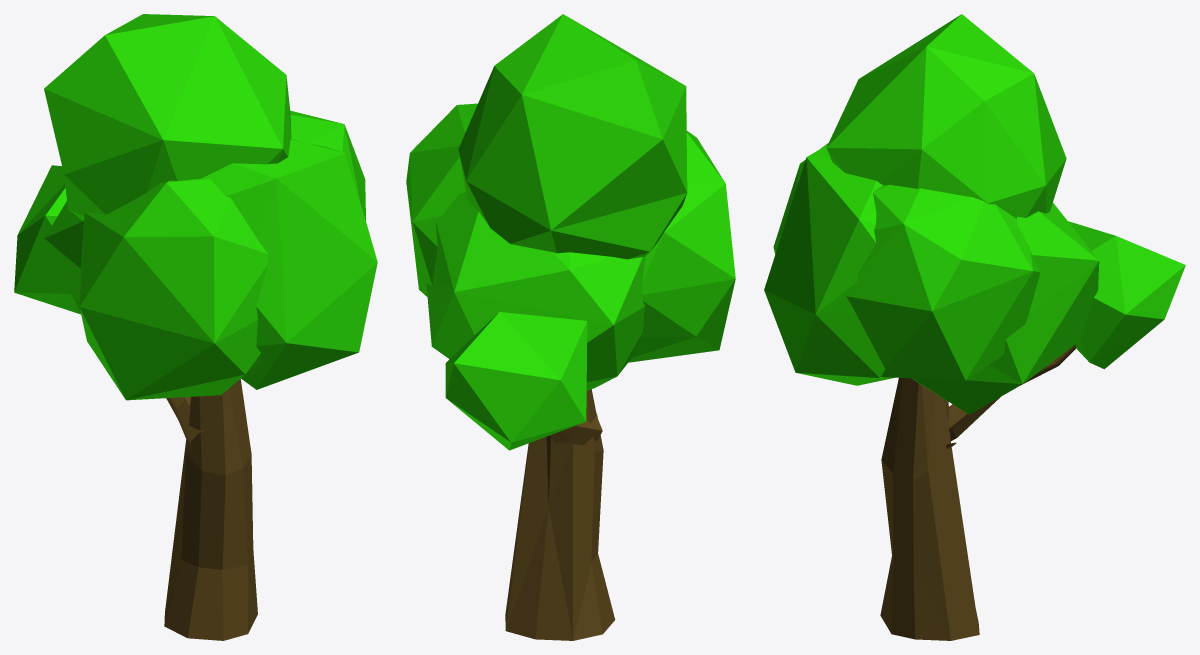
Rendered from Tree#8.fbx.
3 views of the same model, side by side, from view 1: azimuth 30°, elevation 25°; view 2: azimuth 150°, elevation 25°; view 3: azimuth 270°, elevation 25° (orthographic). The views are drawn at different scales.
Visible parts, largest first — view 1: Tree#8; view 2: Tree#8; view 3: Tree#8.
Part boxes in pixels (x1,y1,x2,y2): Tree#8: [14, 14, 377, 640]; Tree#8: [406, 14, 735, 640]; Tree#8: [764, 14, 1185, 640].
Size of the model in its own units: 1181 by 2236 by 1472.
